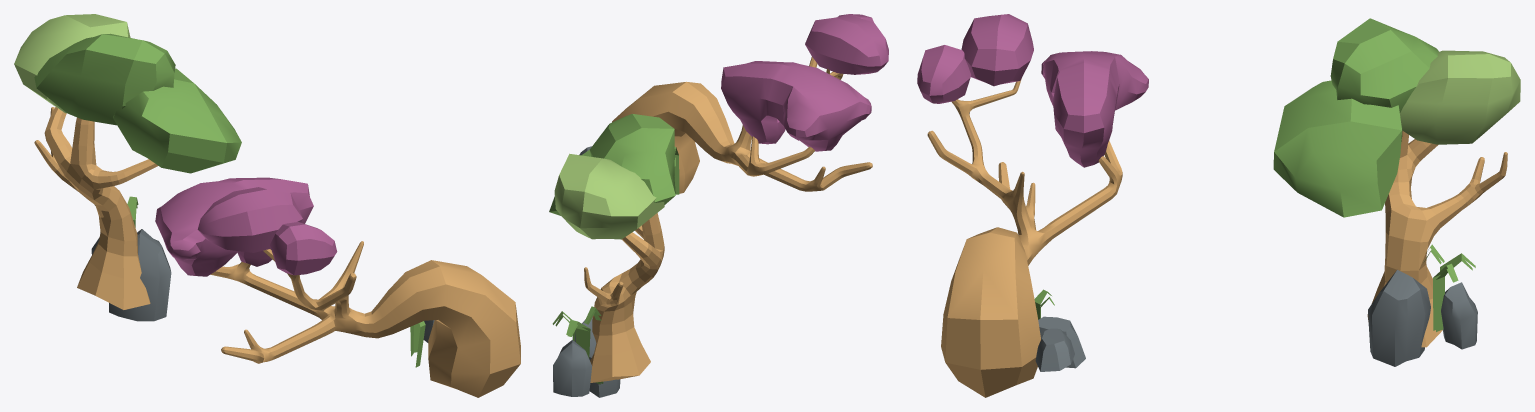
The model's file is Trees.fbx.
3 views of the same model, side by side, from view 1: azimuth 30°, elevation 25°; view 2: azimuth 150°, elevation 25°; view 3: azimuth 270°, elevation 25° (orthographic). The views are drawn at different scales.
Parts seen in each view (by area): view 1: tree cherry, tree; view 2: tree cherry, tree; view 3: tree, tree cherry.
Part boxes in pixels (left/top/right/bottom): tree cherry: left=155, top=177, right=520, bottom=397; tree: left=14, top=14, right=241, bottom=321; tree cherry: left=579, top=14, right=888, bottom=194; tree: left=549, top=114, right=675, bottom=397; tree: left=1273, top=18, right=1520, bottom=366; tree cherry: left=917, top=14, right=1148, bottom=397.
Bounding box in the file's own units: 592 × 508 × 911.
